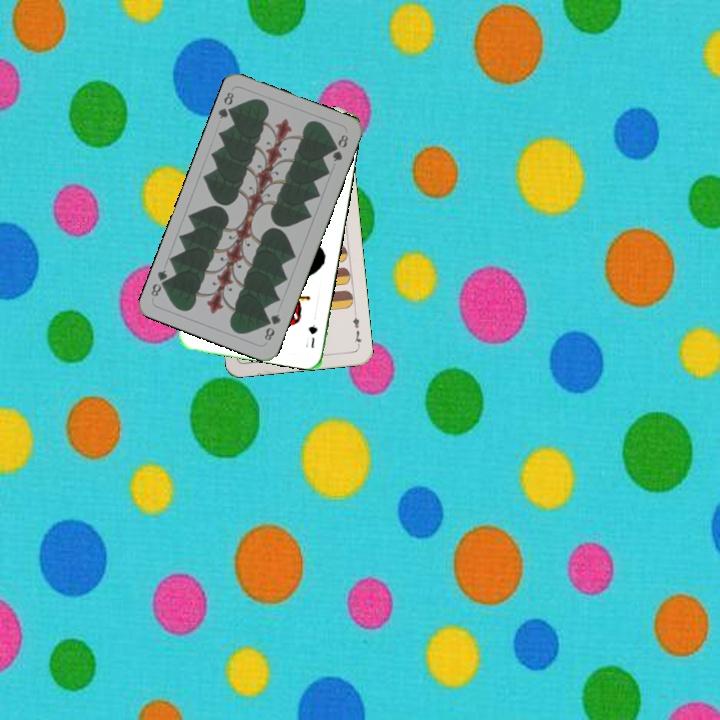E7: (349, 309, 364, 349)
G8: (214, 88, 238, 122), (260, 310, 283, 343)
GU: (302, 321, 320, 350)
